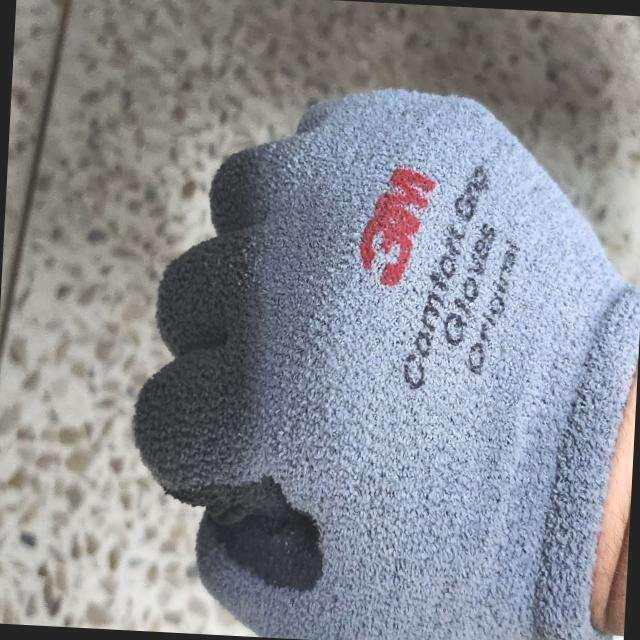Gloves: (147, 82, 640, 640)
